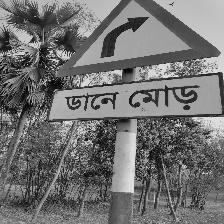Right-turn: (51, 0, 224, 123)
